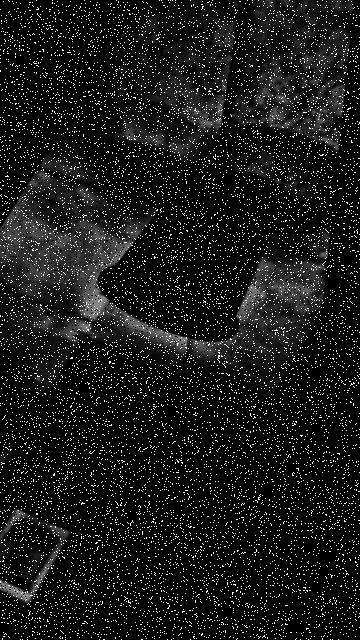pot: (98, 179, 274, 342)
